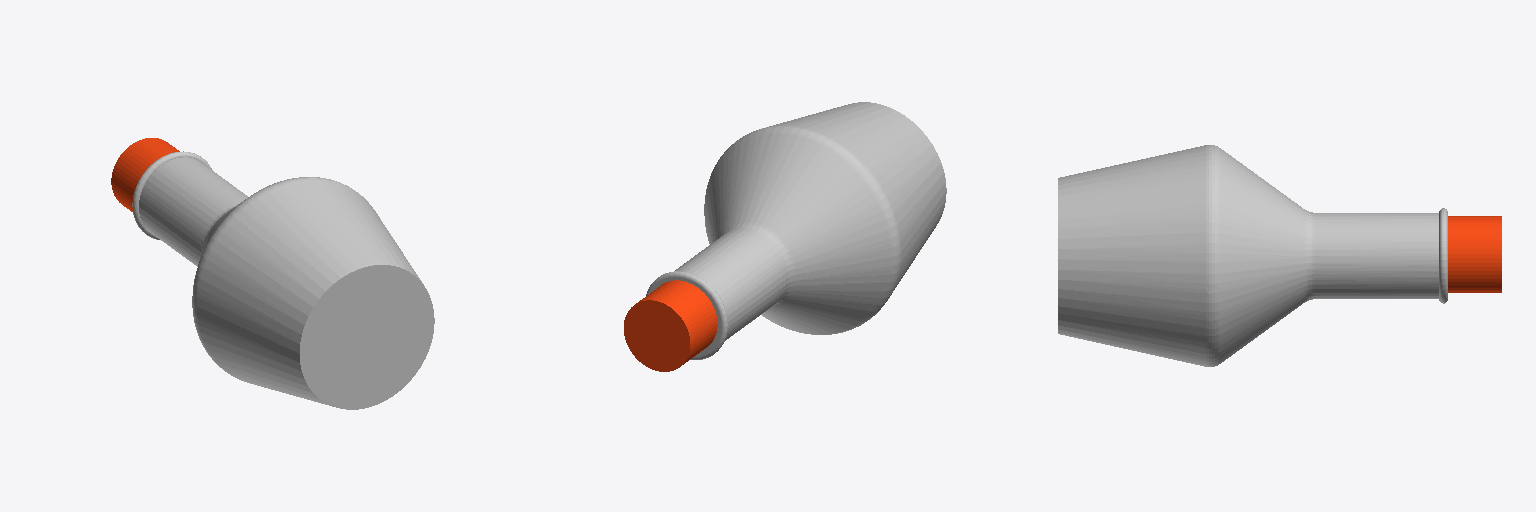
Rendered from potion1.obj.
The picture shows the model from 3 angles: view 1: azimuth 30°, elevation 25°; view 2: azimuth 150°, elevation 25°; view 3: azimuth 270°, elevation 25°; orthographic projection.
Parts seen in each view (by area): view 1: petite_potion_pleine, Bouchon_petite_potion; view 2: petite_potion_pleine, Bouchon_petite_potion; view 3: petite_potion_pleine, Bouchon_petite_potion.
Part boxes in pixels (x1,y1,x2,y2): petite_potion_pleine: (132, 151, 434, 409); Bouchon_petite_potion: (111, 138, 179, 211); petite_potion_pleine: (646, 102, 946, 359); Bouchon_petite_potion: (624, 280, 717, 371); petite_potion_pleine: (1058, 145, 1447, 366); Bouchon_petite_potion: (1448, 216, 1501, 292).
Bounding box in the file's own units: 25.7 × 25.7 × 51.27.